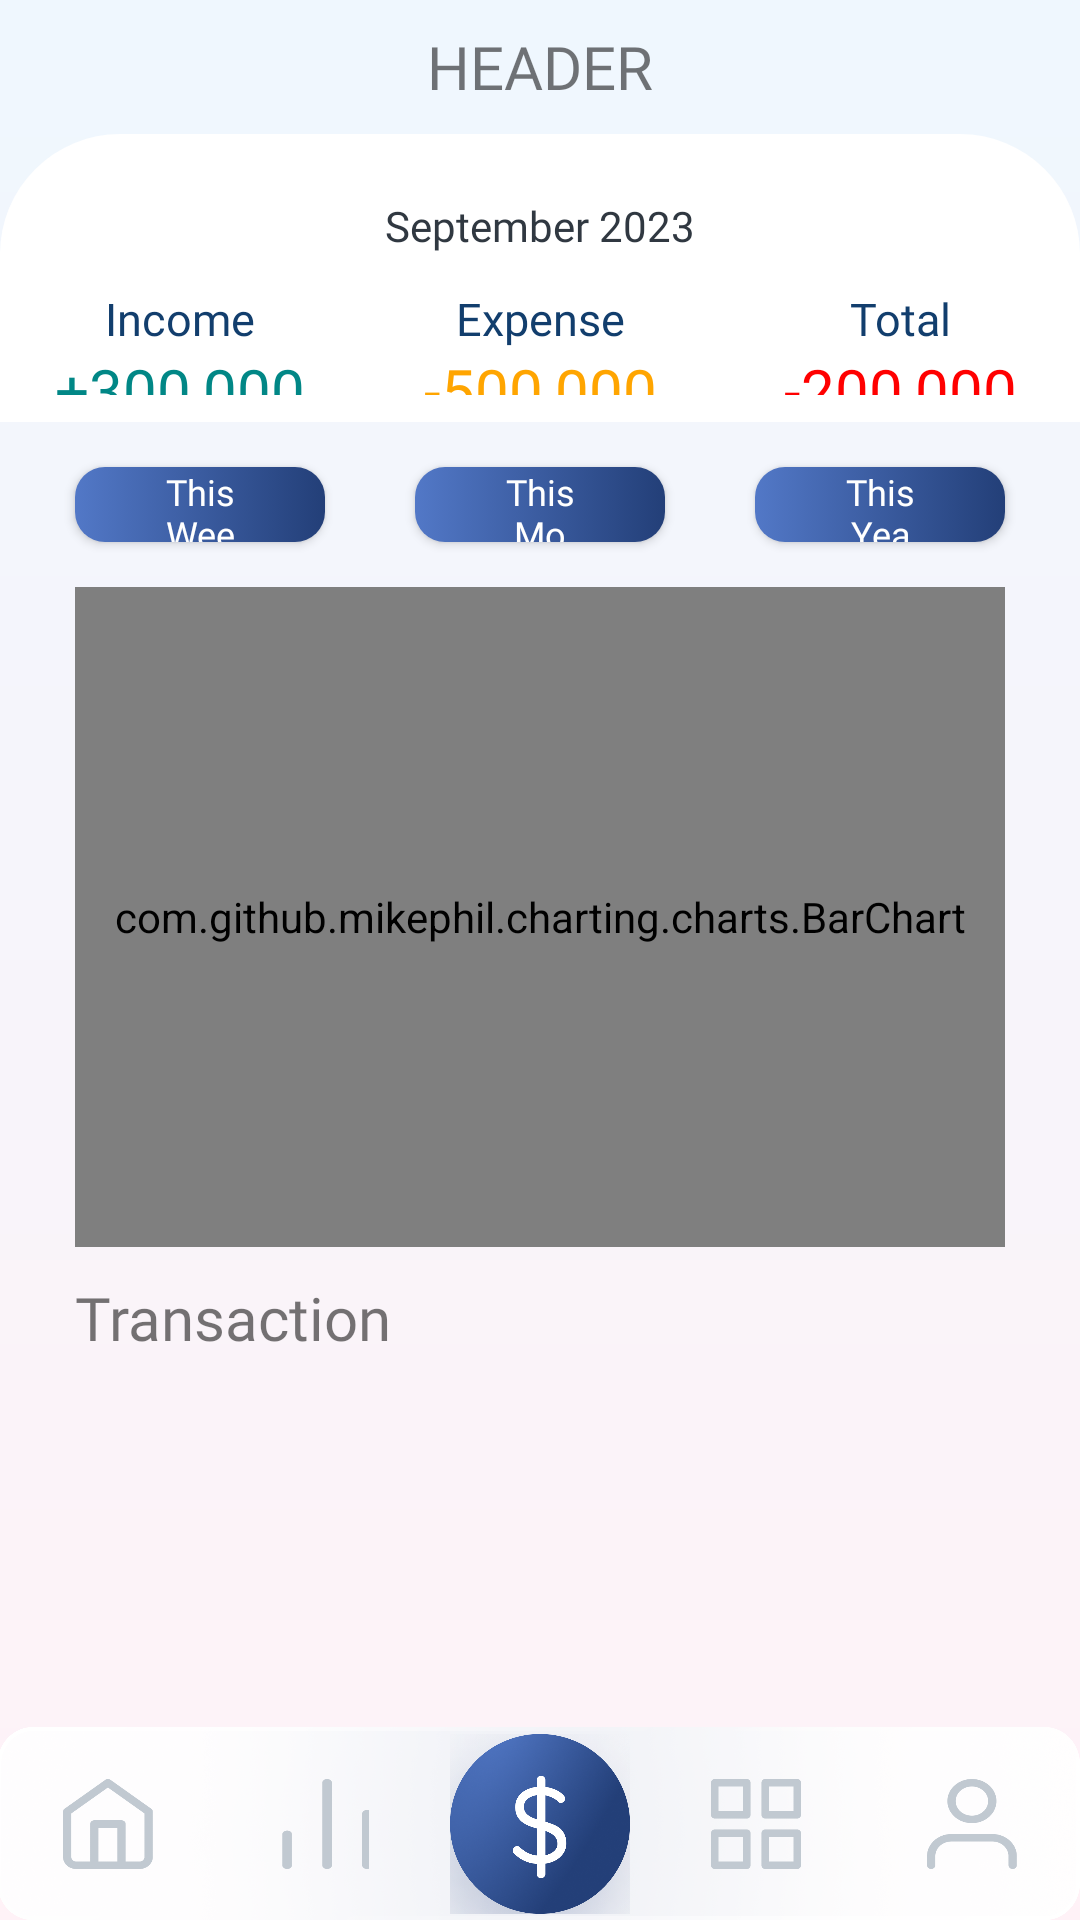

Locate icon controls on the screen. Image size 1080px x 1920px, boxes as (x1, y1, x2, y2).
Go to chart quickly: (282, 1779, 369, 1869)
Go to home quickly: (63, 1779, 153, 1869)
Go to option quickly: (711, 1779, 801, 1869)
Go to personal quickly: (927, 1779, 1017, 1869)
Income/Expense Quickly: (450, 1734, 630, 1914)
